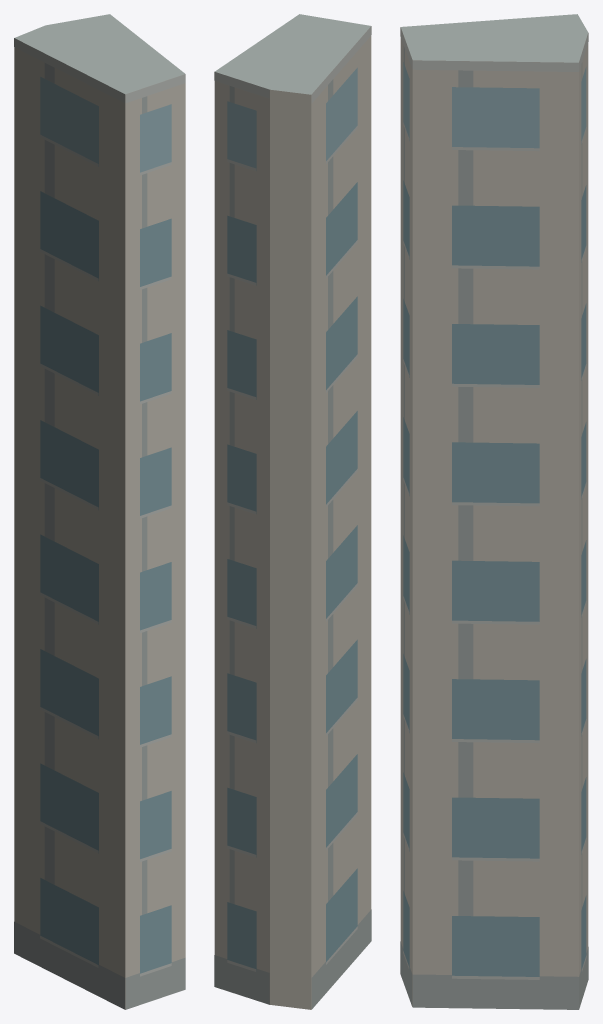
File: survey-upis-32760130.glb
3 renders of one model, left to right at view 1: azimuth 30°, elevation 25°; view 2: azimuth 150°, elevation 25°; view 3: azimuth 270°, elevation 25°, orthographic. The views are drawn at different scales.
Visible parts, largest first — view 1: survey-upis-32760130.tmp; view 2: survey-upis-32760130.tmp; view 3: survey-upis-32760130.tmp.
Part boxes in pixels (x1=…): survey-upis-32760130.tmp: x1=14, y1=14, x2=185, y2=1009; survey-upis-32760130.tmp: x1=214, y1=14, x2=371, y2=1009; survey-upis-32760130.tmp: x1=400, y1=14, x2=588, y2=1009.
Bounding box in the file's own units: 2.7 × 24.4 × 4.39.
